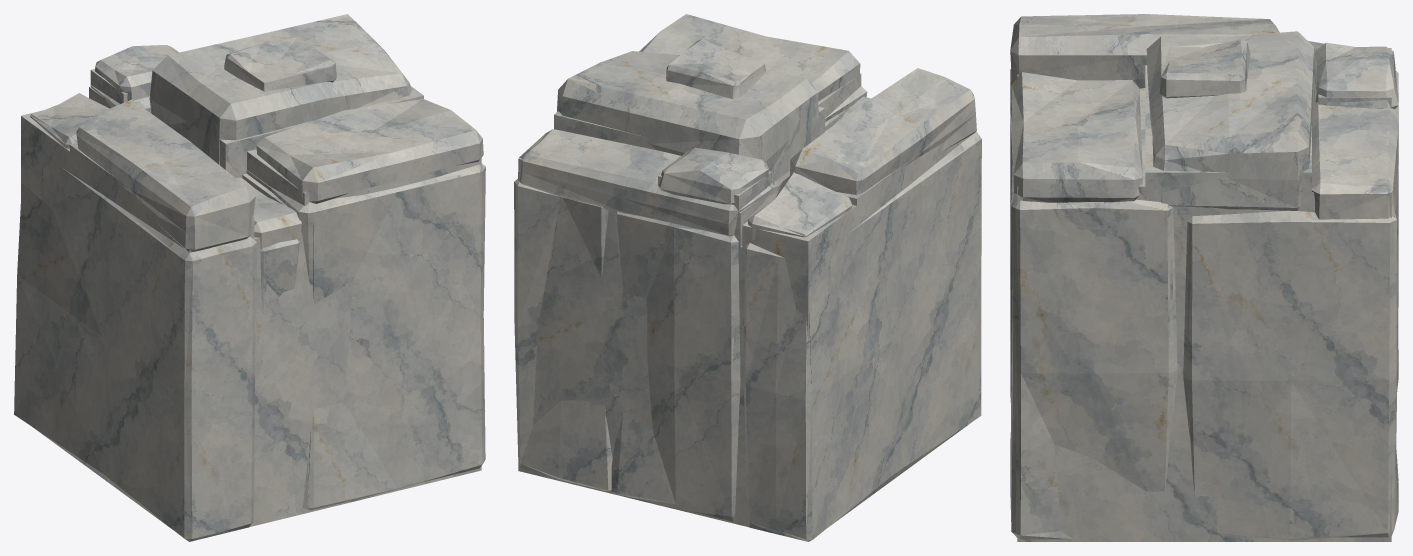
Rendered from wall_stone_02.glb.
3 views of the same model, side by side, from view 1: azimuth 30°, elevation 25°; view 2: azimuth 150°, elevation 25°; view 3: azimuth 270°, elevation 25° (orthographic). The views are drawn at different scales.
Parts seen in each view (by area): view 1: WallStone02; view 2: WallStone02; view 3: WallStone02.
Boxes of the visible parts, bbox=[...] form: WallStone02: bbox=[14, 14, 485, 541]; WallStone02: bbox=[514, 14, 981, 541]; WallStone02: bbox=[1010, 14, 1398, 541].
Size of the model in its own units: 1 by 1.2 by 1.
1 material, 1 textured.
